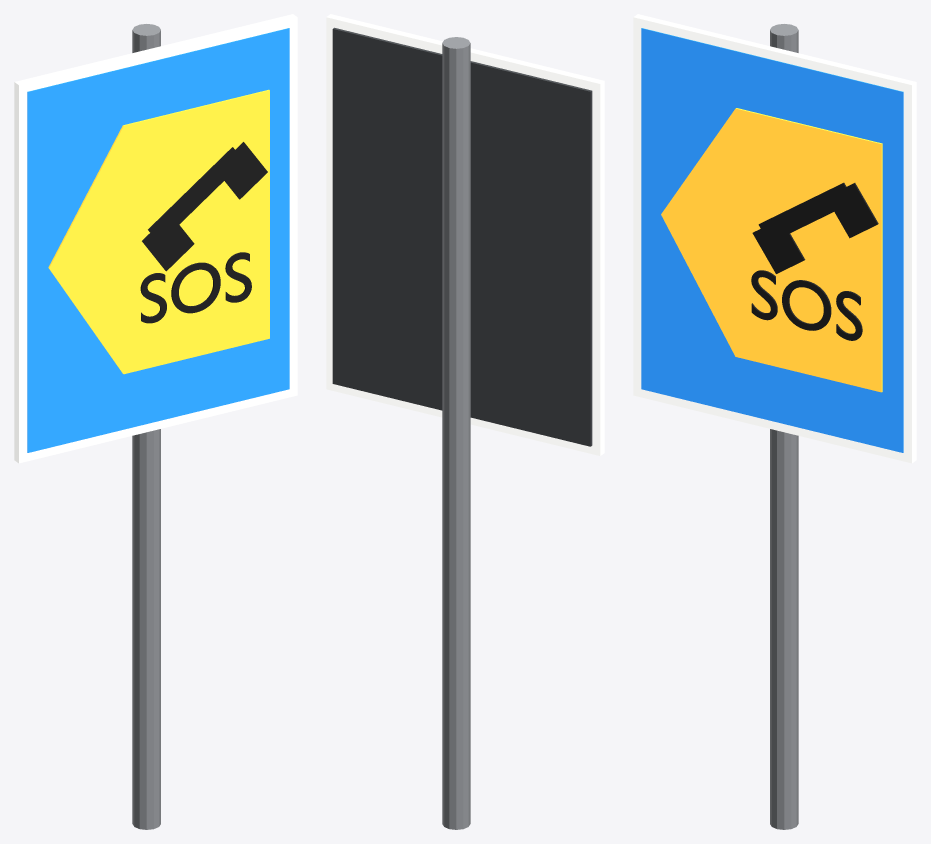
File: layby_sos_sign.glb
The picture shows the model from 3 angles, left to right: view 1: azimuth 30°, elevation 25°; view 2: azimuth 150°, elevation 25°; view 3: azimuth 330°, elevation 25°; orthographic projection.
Parts seen in each view (by area): view 1: layby_sos_sign; view 2: layby_sos_sign; view 3: layby_sos_sign.
Boxes of the visible parts, x1,y1,x2,y2 form: layby_sos_sign: (14, 14, 297, 829); layby_sos_sign: (326, 14, 604, 829); layby_sos_sign: (633, 14, 916, 829).
Size of the model in its own units: 1.01 by 2.75 by 0.132.
